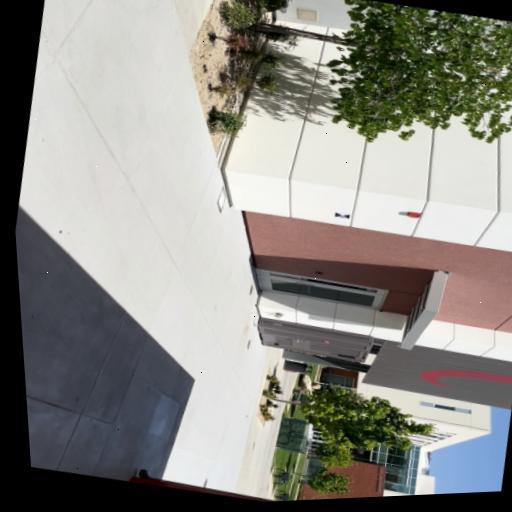target6: (334, 212, 350, 220)
